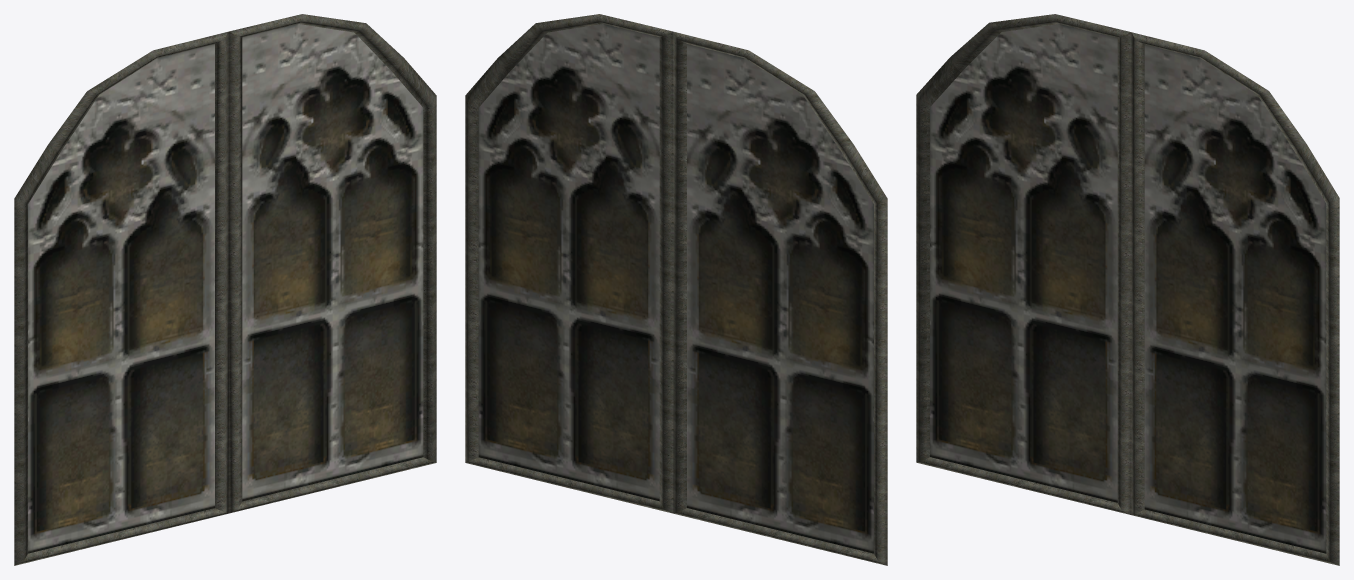
File: MAINHALL_DOOR02.fbx
3 renders of one model, left to right at view 1: azimuth 30°, elevation 25°; view 2: azimuth 150°, elevation 25°; view 3: azimuth 330°, elevation 25°, orthographic.
Parts seen in each view (by area): view 1: MAINHALL_DOOR02; view 2: MAINHALL_DOOR02; view 3: MAINHALL_DOOR02.
Part boxes in pixels (x1,y1,x2,y2): MAINHALL_DOOR02: (14,14,436,565); MAINHALL_DOOR02: (465,14,887,565); MAINHALL_DOOR02: (916,14,1339,565).
Size of the model in its own units: 45724 by 49853 by 913.
2 materials, 2 textured.
